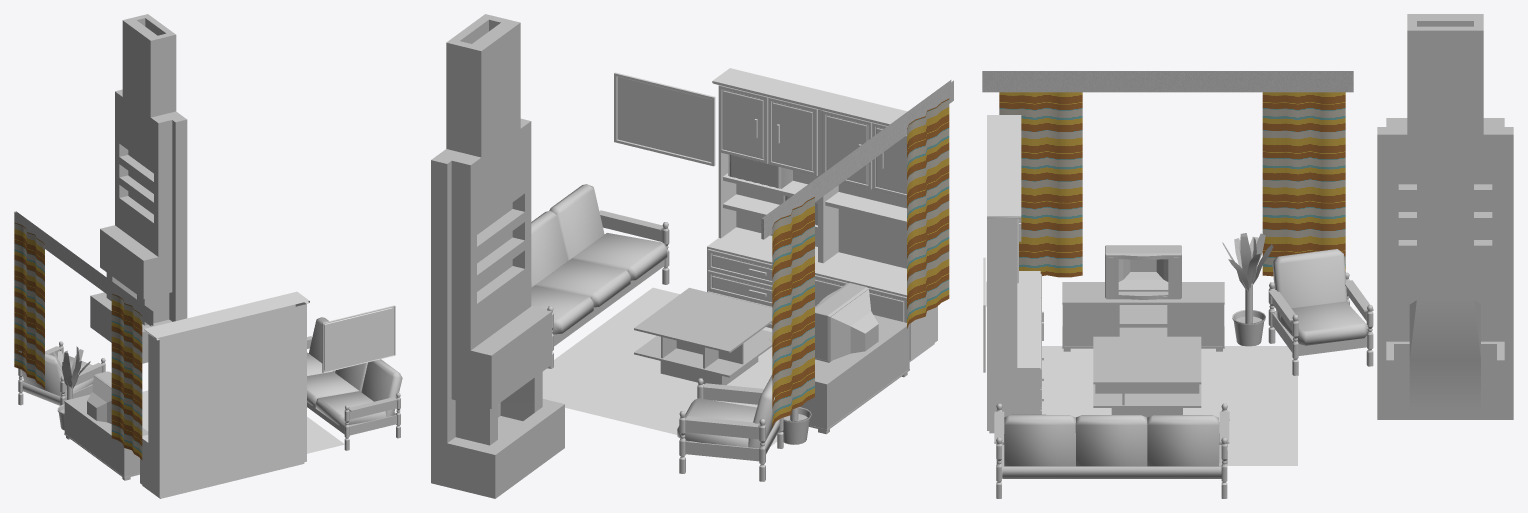
The model's file is LivingroomModels.fbx.
3 views of the same model, side by side, from view 1: azimuth 30°, elevation 25°; view 2: azimuth 150°, elevation 25°; view 3: azimuth 270°, elevation 25° (orthographic). The views are drawn at different scales.
Visible parts, largest first — view 1: Bookshelf, Chimney, Curtains, Coach, Painting, TVTable, CoachS, TV, Carpet, Plant; view 2: Chimney, Bookshelf, Curtains, Coach, Carpet, Table, Painting, CoachS, TVTable, TV, PlantPot; view 3: Chimney, Curtains, Coach, Carpet, Bookshelf, CoachS, Table, TVTable, TV, Plant, PlantPot.
Boxes of the visible parts, x1,y1,x2,y2 form: Bookshelf: [140, 291, 309, 498]; Chimney: [90, 14, 187, 363]; Curtains: [14, 211, 153, 460]; Coach: [307, 317, 402, 450]; Painting: [322, 305, 395, 373]; TVTable: [64, 394, 148, 480]; CoachS: [18, 341, 105, 405]; TV: [87, 371, 111, 423]; Carpet: [142, 390, 344, 453]; Plant: [53, 346, 90, 399]; Chimney: [431, 14, 564, 498]; Bookshelf: [707, 68, 937, 361]; Curtains: [761, 80, 953, 427]; Coach: [531, 184, 669, 368]; Carpet: [542, 287, 777, 445]; Table: [634, 287, 772, 385]; Painting: [614, 72, 715, 166]; CoachS: [677, 375, 783, 481]; TVTable: [799, 315, 909, 434]; TV: [815, 283, 878, 362]; PlantPot: [782, 407, 811, 444]; Chimney: [1377, 14, 1513, 419]; Curtains: [982, 71, 1353, 277]; Coach: [994, 403, 1229, 498]; Carpet: [1042, 346, 1297, 465]; Bookshelf: [986, 115, 1043, 433]; CoachS: [1268, 249, 1373, 375]; Table: [1093, 336, 1201, 417]; TVTable: [1062, 282, 1224, 351]; TV: [1105, 245, 1181, 299]; Plant: [1222, 233, 1273, 323]; PlantPot: [1232, 310, 1265, 346].
Size of the model in its own units: 380 by 429 by 491.
